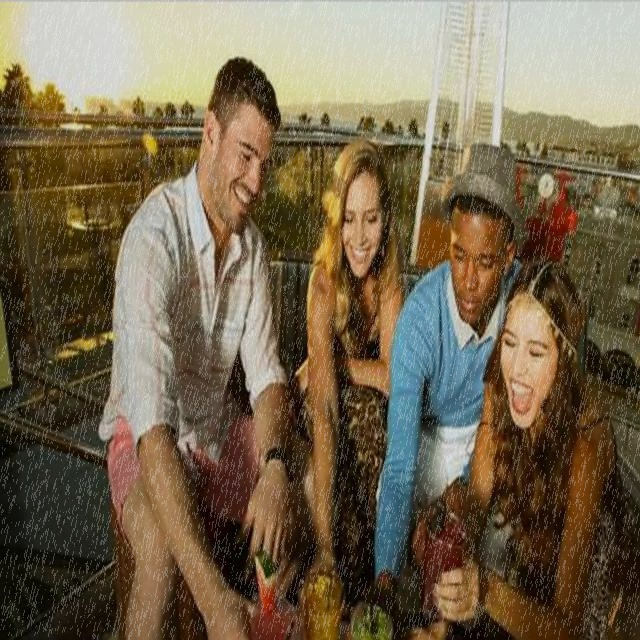pessoa: (93, 53, 293, 640), (408, 248, 630, 640), (370, 142, 524, 632), (278, 140, 420, 640)
